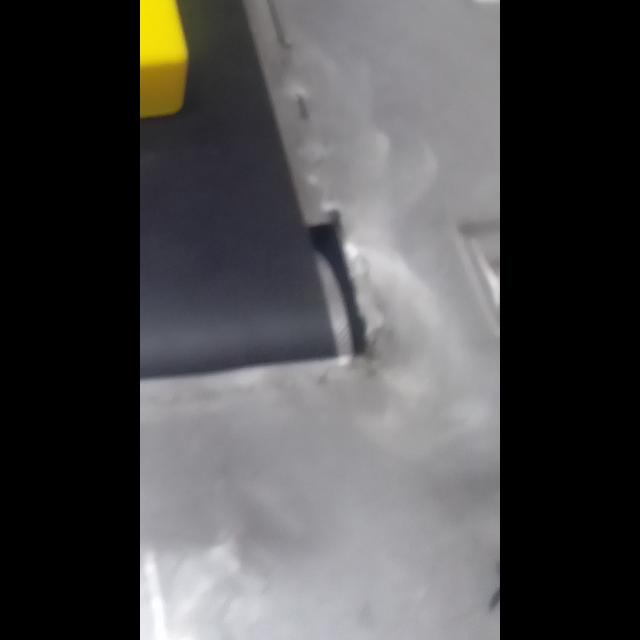yellowBox: (140, 0, 204, 138)
